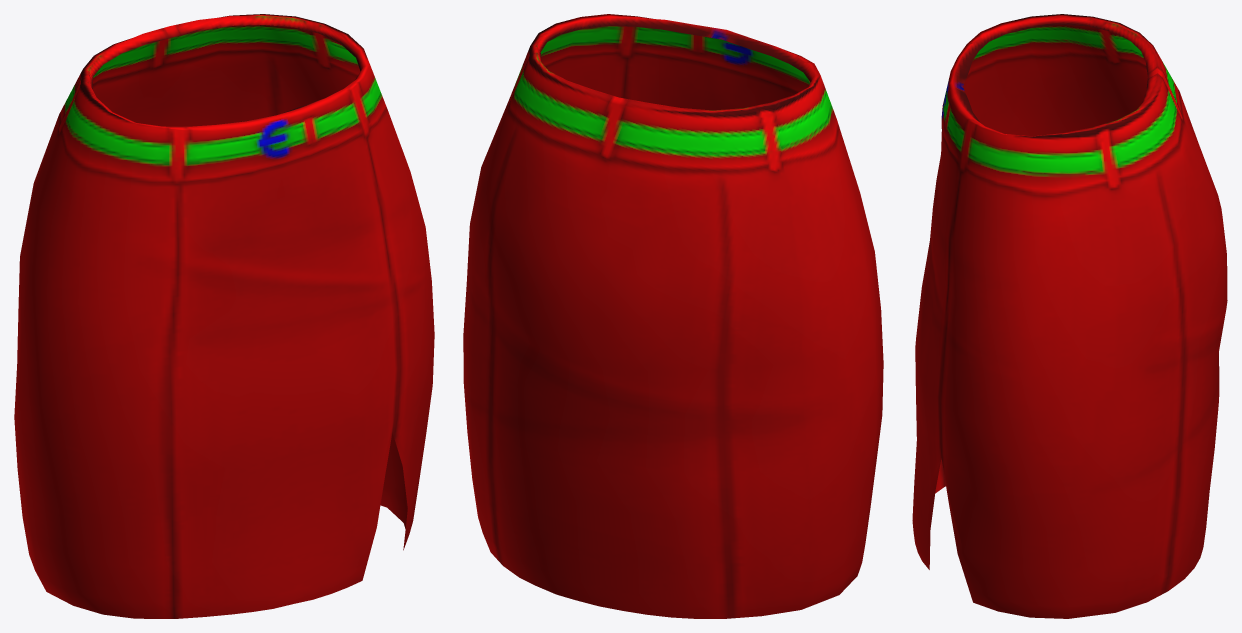
File: Bottom_BeltedSkirt.obj
3 renders of one model, left to right at view 1: azimuth 30°, elevation 25°; view 2: azimuth 150°, elevation 25°; view 3: azimuth 270°, elevation 25°, orthographic. The views are drawn at different scales.
Visible parts, largest first — view 1: Bottom_BeltedSkirt_0; view 2: Bottom_BeltedSkirt_0; view 3: Bottom_BeltedSkirt_0.
Part boxes in pixels (left/top/right/bottom): Bottom_BeltedSkirt_0: left=14, top=14, right=434, bottom=618; Bottom_BeltedSkirt_0: left=463, top=14, right=883, bottom=618; Bottom_BeltedSkirt_0: left=912, top=14, right=1227, bottom=618.
Size of the model in its own units: 0.4099 by 0.4982 by 0.3027.
1 material, 1 textured.
